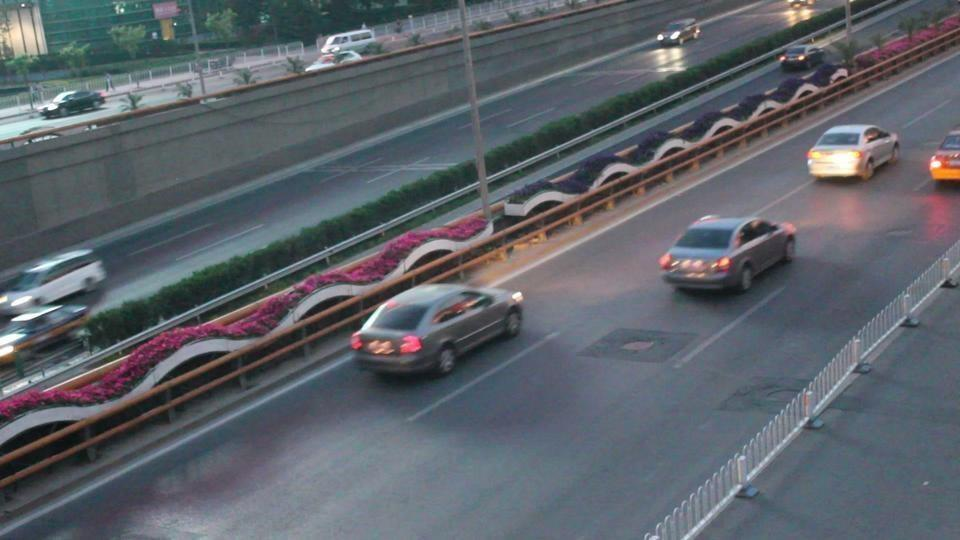car: (350, 282, 525, 379), (659, 215, 794, 294), (502, 151, 642, 223), (0, 245, 109, 320), (1, 301, 92, 369), (806, 124, 901, 182), (38, 89, 108, 119), (928, 129, 960, 182), (303, 50, 363, 75), (656, 19, 702, 46)
